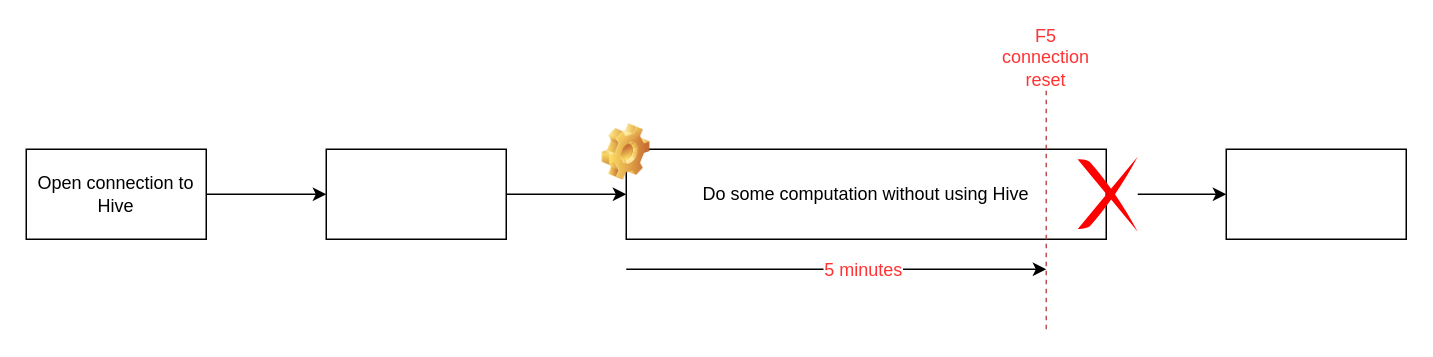
This 1433x357 diagram has some shape labels left out. Each missing label, with the box of its shape:
Get data from Hive: (325, 148, 506, 239)
Store result on Hive: (1225, 148, 1406, 239)
